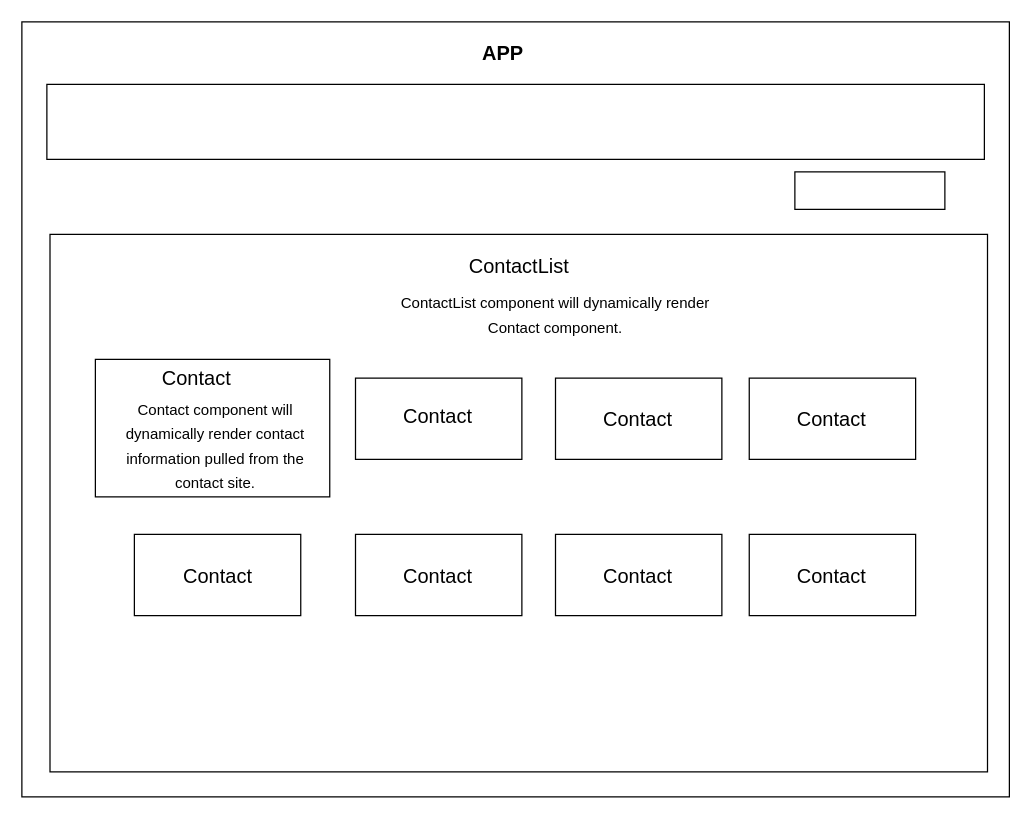
The diagram is 1031 pixels wide and 819 high, and some of its shapes have lost their labels. The shapes that lost their labels are listed below. From the top down, each one's centre as x and y in pixels, then its label:
At (515,121): "Header".
At (869,190): "Search".
